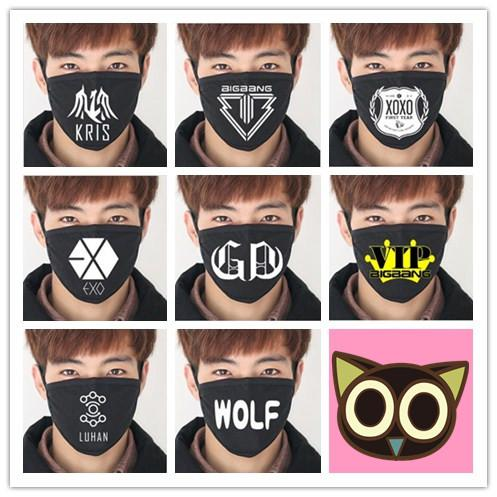OK: (196, 354, 299, 457), (41, 355, 142, 456), (198, 201, 298, 301), (350, 201, 450, 301), (190, 50, 289, 149), (46, 203, 145, 302), (355, 48, 453, 146), (42, 46, 139, 143)
